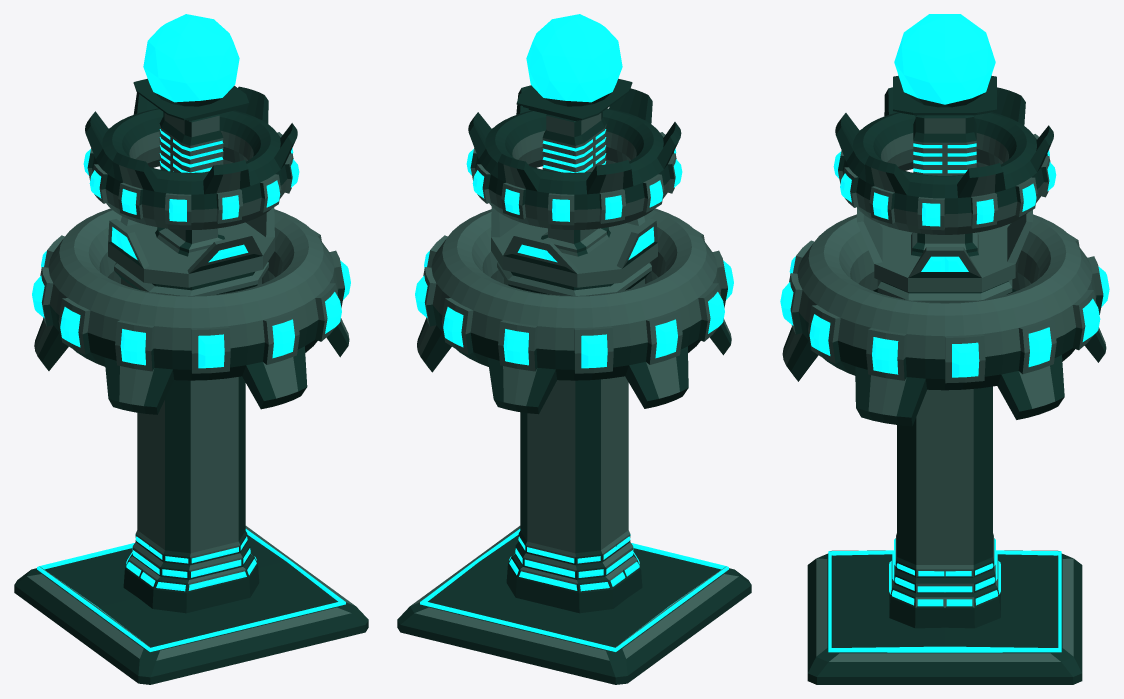
File: ElectricTower3.fbx
3 views of the same model, side by side, from view 1: azimuth 30°, elevation 25°; view 2: azimuth 150°, elevation 25°; view 3: azimuth 270°, elevation 25° (orthographic). The views are drawn at different scales.
Parts seen in each view (by area): view 1: Torus, base, pillar, Torus.001, turret, Icosphere; view 2: Torus, base, pillar, Torus.001, turret, Icosphere; view 3: Torus, base, pillar, Torus.001, turret, Icosphere.
Part boxes in pixels (bbox=[...]): Torus: bbox=[32, 208, 350, 414]; base: bbox=[14, 526, 368, 684]; pillar: bbox=[123, 376, 259, 613]; Torus.001: bbox=[83, 86, 299, 229]; turret: bbox=[108, 78, 274, 295]; Icosphere: bbox=[143, 14, 239, 106]; Torus: bbox=[415, 208, 733, 414]; base: bbox=[397, 526, 751, 684]; pillar: bbox=[506, 376, 642, 613]; Torus.001: bbox=[466, 85, 682, 229]; turret: bbox=[491, 78, 657, 295]; Icosphere: bbox=[526, 14, 622, 106]; Torus: bbox=[780, 214, 1109, 426]; base: bbox=[807, 550, 1082, 684]; pillar: bbox=[889, 386, 1000, 628]; Torus.001: bbox=[833, 87, 1056, 234]; turret: bbox=[857, 75, 1032, 302]; Icosphere: bbox=[894, 14, 995, 107].
Bounding box in the file's own units: 240 × 491 × 240.
